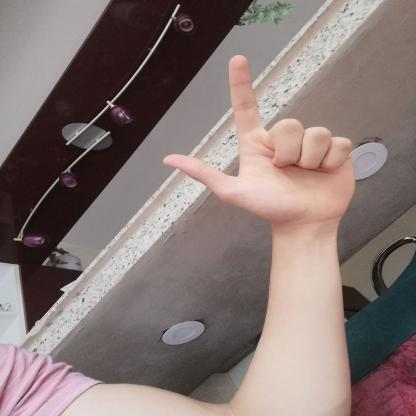LAAM: (149, 46, 368, 230)
